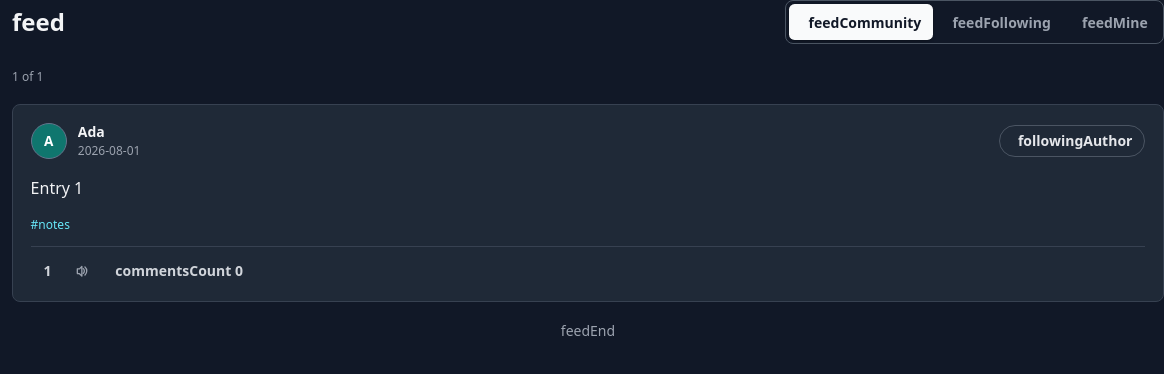
Test case: FeedPage › keeps the follow state and reports an error when the update fails
Click the button named "followingAuthor Ada". click: (1072, 141)
box: [999,125,1145,157]
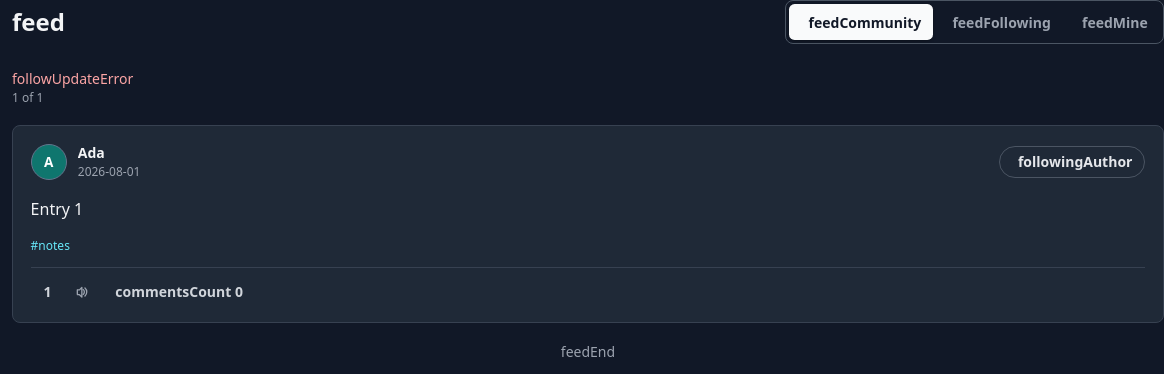
Expected: the button named "followingAuthor Ada" is enabled, [999,146,1145,178]
Now the message reads "followUpdateError", box [12,69,133,88]
